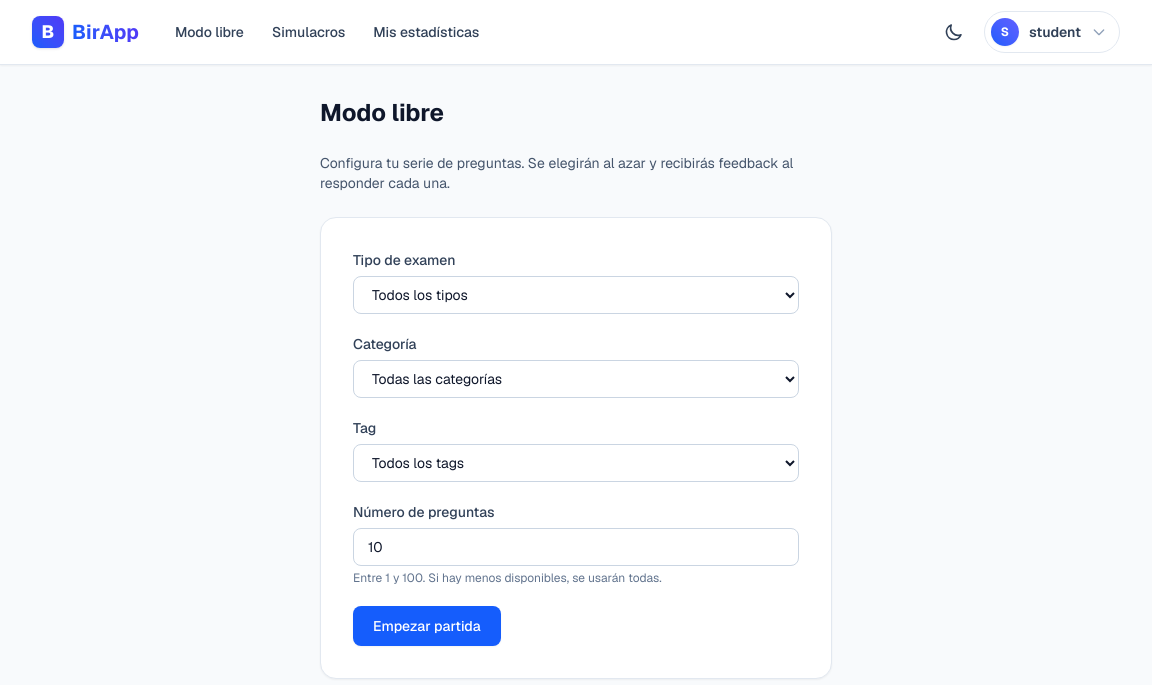
Test: FreeConfigPage (/free) › displays error message when session creation fails
This screenshot has width=1152, height=685.
Step 1. Click the button "Empezar partida" → (427, 626), box [353,606,501,646]
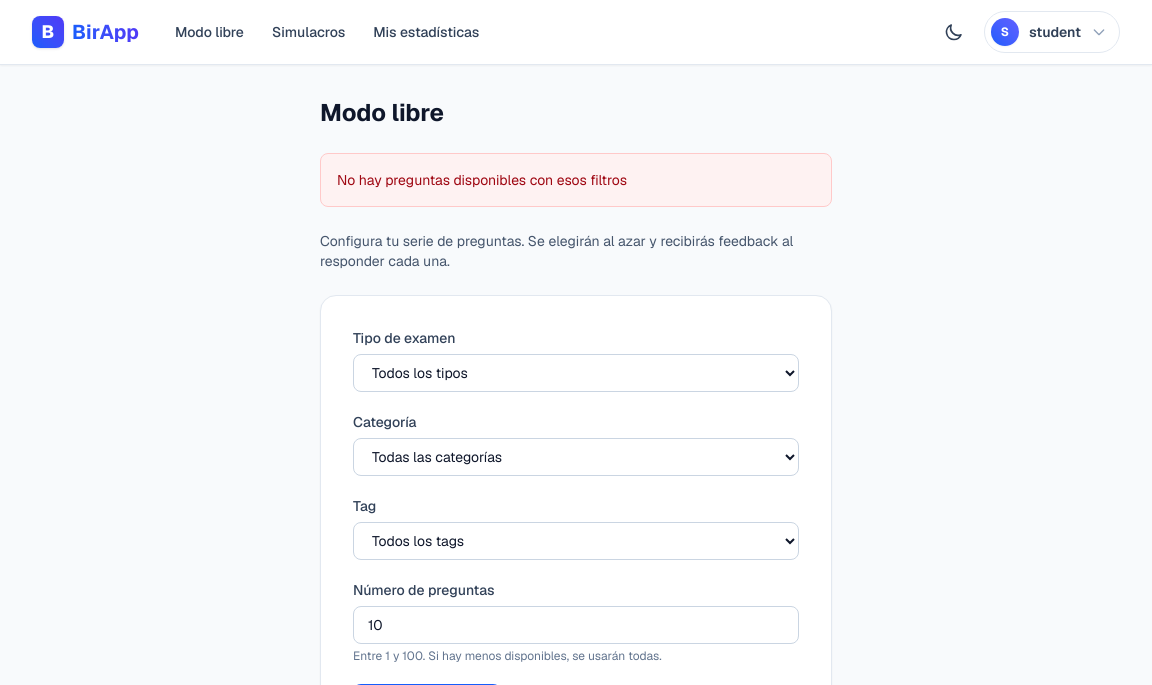
Expected: the text "No hay preguntas disponibles con esos filtros" is shown, [320,153,832,207]
